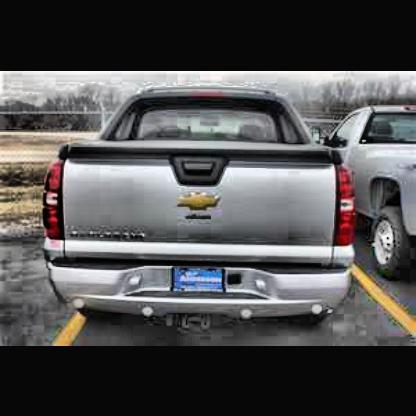Chevrolet Avalanche Crew Cab 2012: (44, 88, 360, 325)
